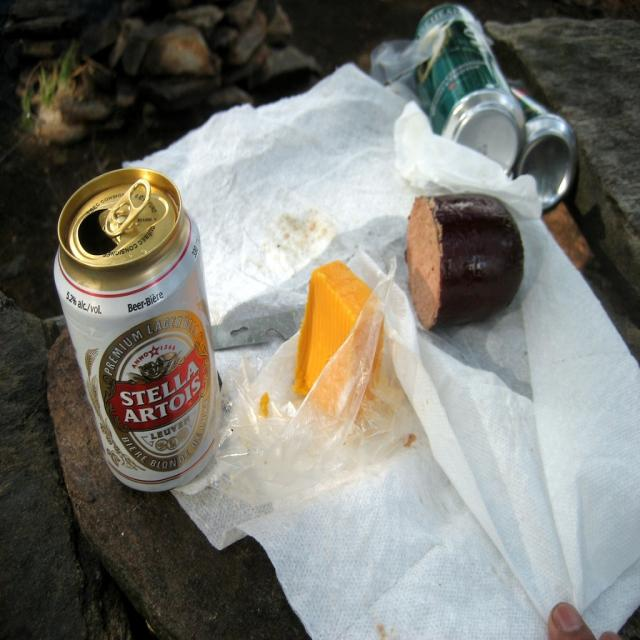stellaartois: (99, 310, 213, 474)
